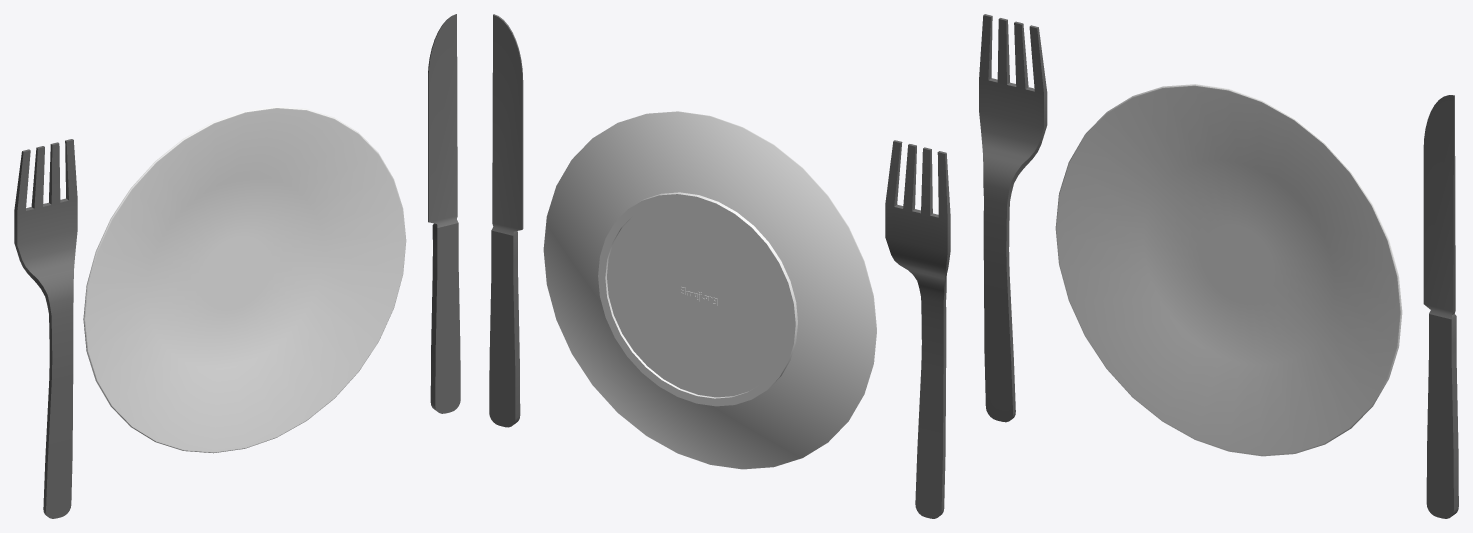
The model's file is fork_and_knife_with_plate.fbx.
3 views of the same model, side by side, from view 1: azimuth 30°, elevation 25°; view 2: azimuth 150°, elevation 25°; view 3: azimuth 330°, elevation 25° (orthographic). The views are drawn at different scales.
Visible parts, largest first — view 1: Circle.2319; view 2: Circle.2319; view 3: Circle.2319.
Boxes of the visible parts, x1,y1,x2,y2 form: Circle.2319: [14, 14, 460, 518]; Circle.2319: [489, 14, 950, 518]; Circle.2319: [979, 14, 1458, 518].
Bounding box in the file's own units: 199 × 170 × 24.1.
Materials: 1 (1 with a texture image).
